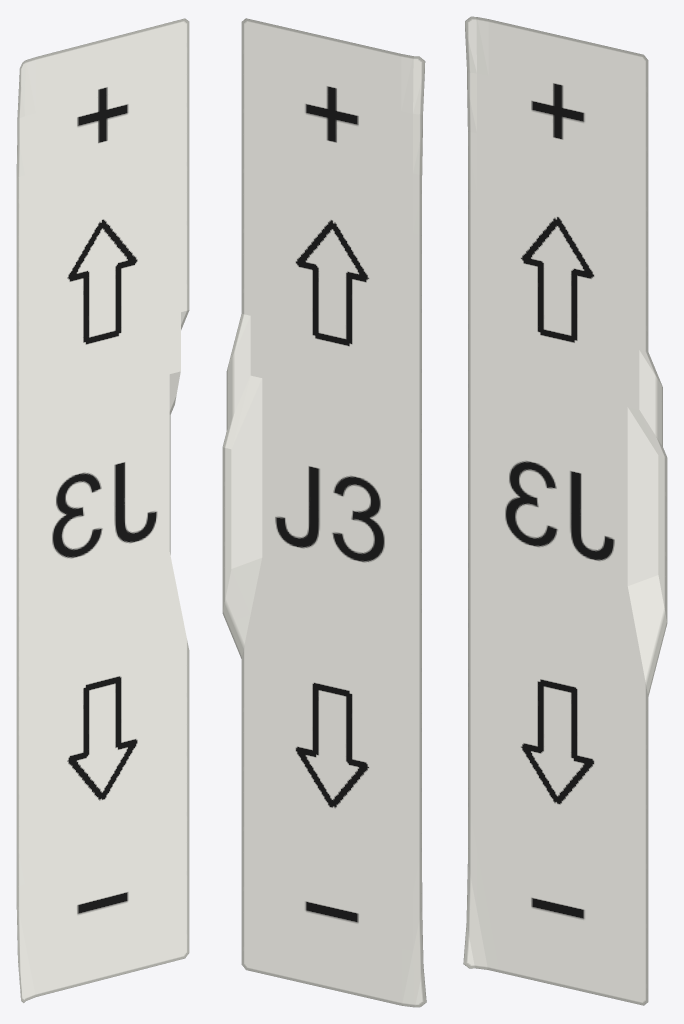
Rendered from J3_sticker_other.glb.
3 renders of one model, left to right at view 1: azimuth 30°, elevation 25°; view 2: azimuth 150°, elevation 25°; view 3: azimuth 330°, elevation 25°, orthographic.
Size of the model in its own units: 0.012 by 0.06 by 0.00318.
Materials: 1 (1 with a texture image).
